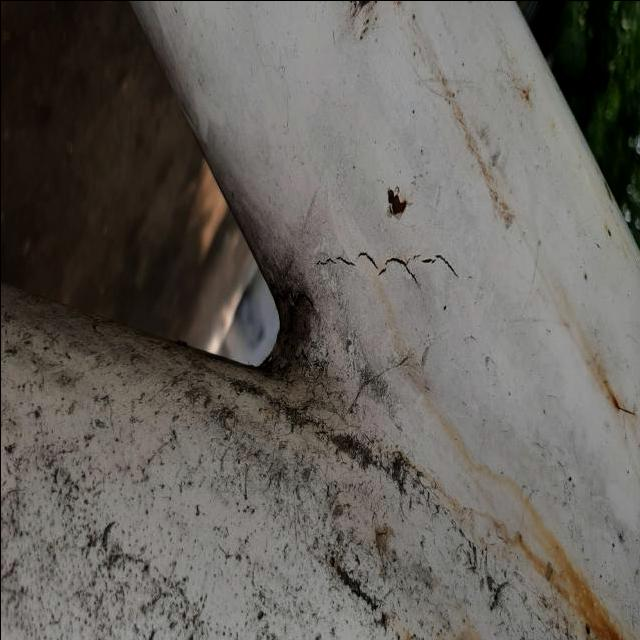defect: (307, 236, 465, 295)
